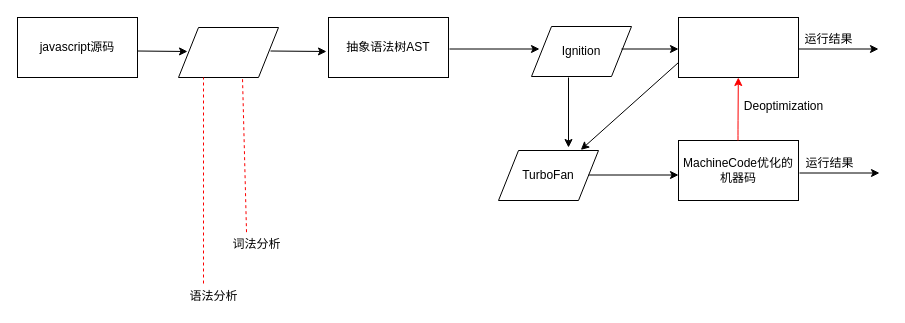
Image size: 905x323. Some labels were removed from this diagram. Here are the shapes that lost their labels. From the top down, the centre of each, then its label:
At pixel 228 52: "Parse".
At pixel 738 47: "ByteCode字节码".
